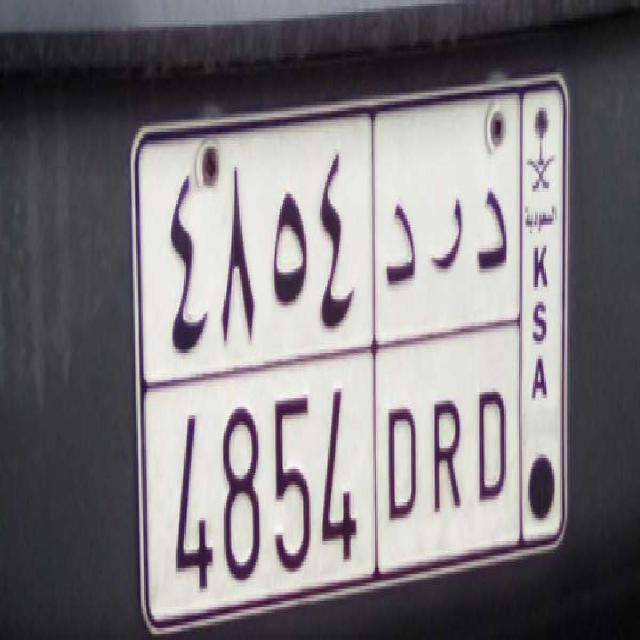license_plate: (162, 367, 516, 592)
